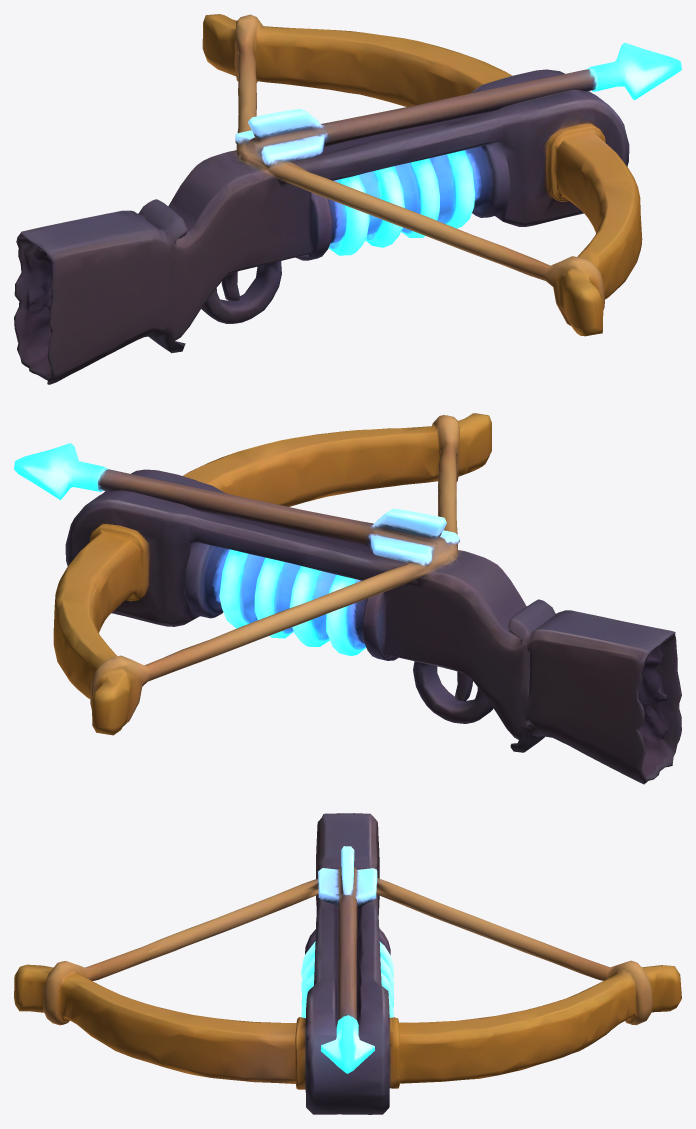
Rendered from Arm_thunder_xbow-BhIbEZJL.glb.
The picture shows the model from 3 angles, top to bottom: view 1: azimuth 30°, elevation 25°; view 2: azimuth 150°, elevation 25°; view 3: azimuth 270°, elevation 25°; orthographic projection. The views are drawn at different scales.
Parts seen in each view (by area): view 1: Arm_thunder_xbow; view 2: Arm_thunder_xbow; view 3: Arm_thunder_xbow.
Part boxes in pixels (x1,y1,x2,y2): Arm_thunder_xbow: [14, 14, 681, 384]; Arm_thunder_xbow: [14, 413, 681, 784]; Arm_thunder_xbow: [14, 813, 681, 1114].
Bounding box in the file's own units: 1.4 × 0.4212 × 1.44.
Materials: 1 (1 with a texture image).
